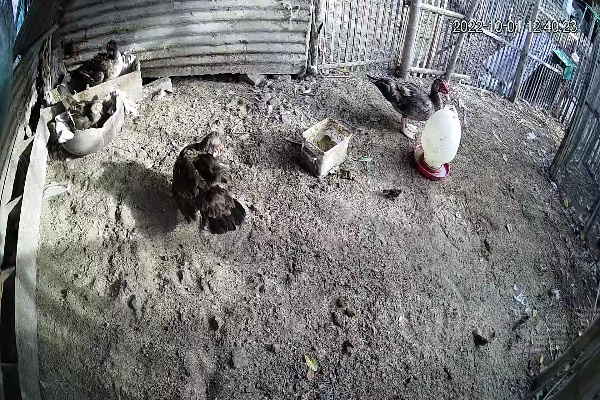Entog: (154, 128, 254, 245), (368, 66, 456, 128)
